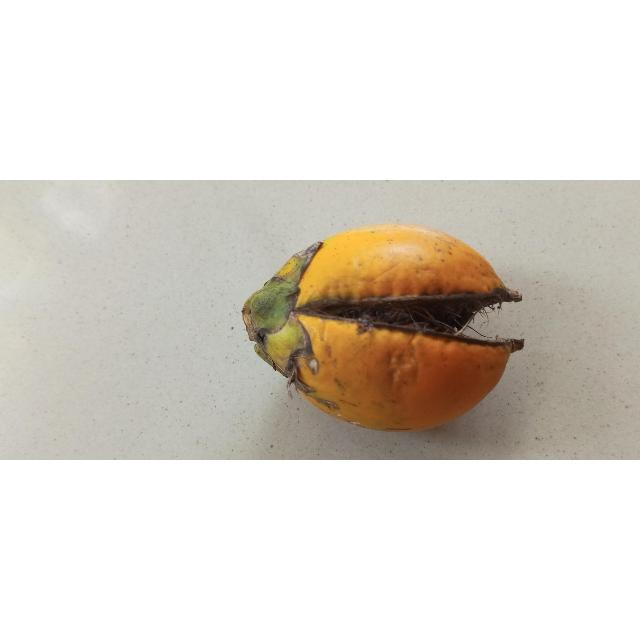damaged: (242, 224, 524, 433)
